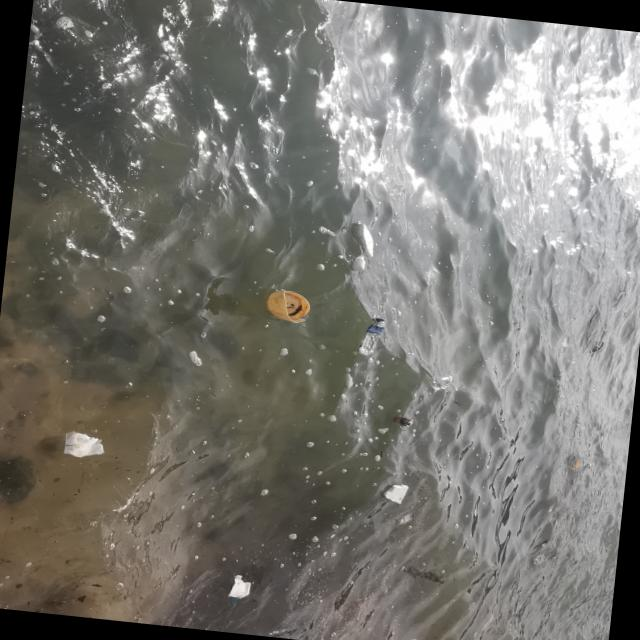can: (392, 415, 415, 429)
foam: (65, 431, 107, 462), (224, 573, 254, 603), (352, 224, 377, 258), (383, 484, 409, 505)
plastic bottle: (356, 317, 387, 360), (350, 256, 365, 273)
